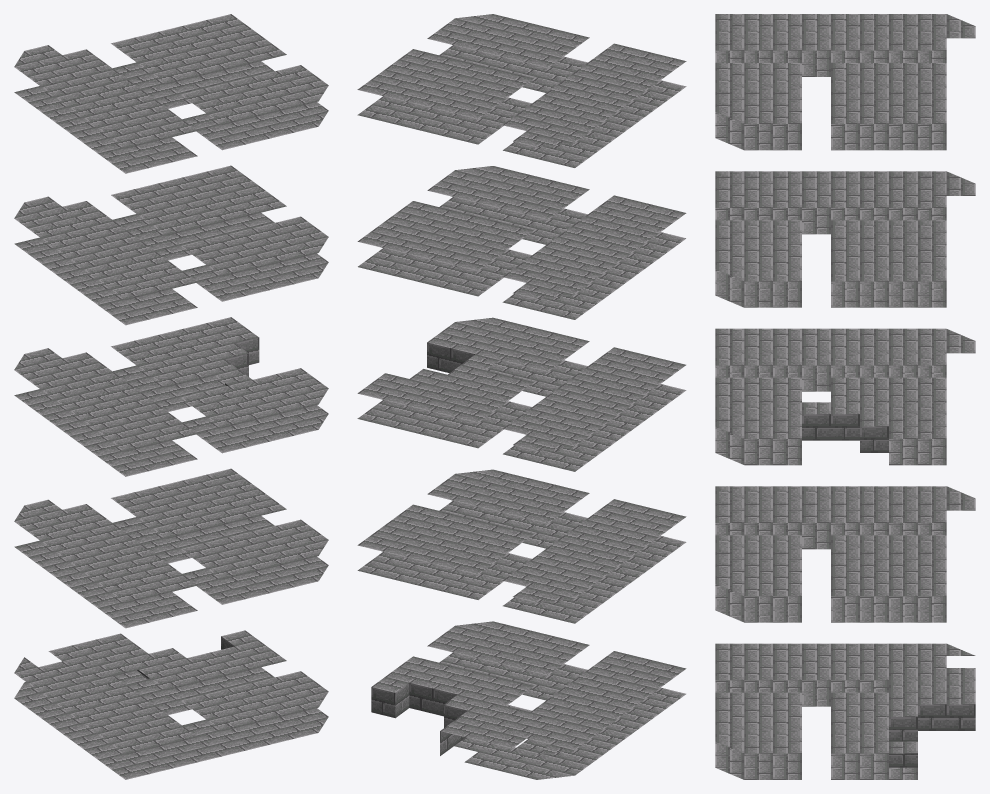
File: Stone_Bricks_Chunk_6_21.fbx
The picture shows the model from 3 angles, left to right: view 1: azimuth 30°, elevation 25°; view 2: azimuth 150°, elevation 25°; view 3: azimuth 270°, elevation 25°; orthographic projection. The views are drawn at different scales.
Visible parts, largest first — view 1: Stone_Bricks_Chunk_6_21; view 2: Stone_Bricks_Chunk_6_21; view 3: Stone_Bricks_Chunk_6_21.
Boxes of the visible parts, bbox=[...] form: Stone_Bricks_Chunk_6_21: bbox=[14, 14, 328, 779]; Stone_Bricks_Chunk_6_21: bbox=[357, 14, 686, 779]; Stone_Bricks_Chunk_6_21: bbox=[715, 14, 975, 779].
Bounding box in the file's own units: 900 × 2500 × 900.
1 material, 1 textured.
